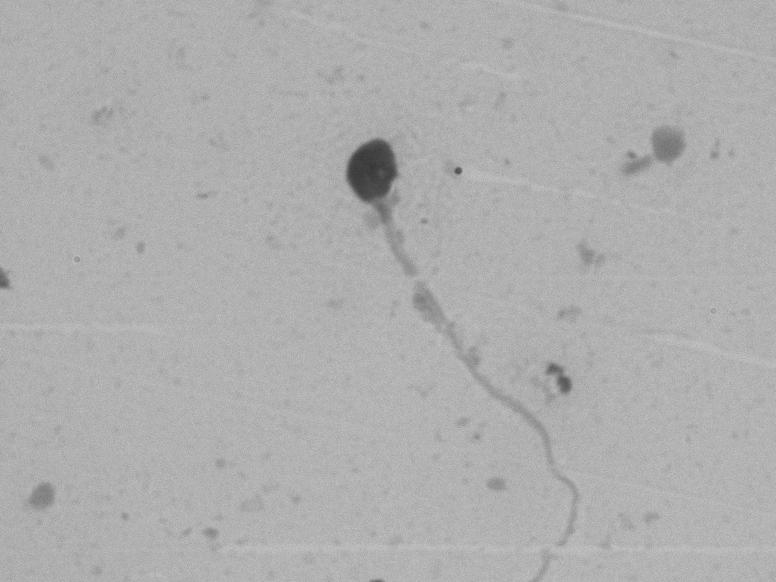Abnormal: (314, 115, 611, 566)
